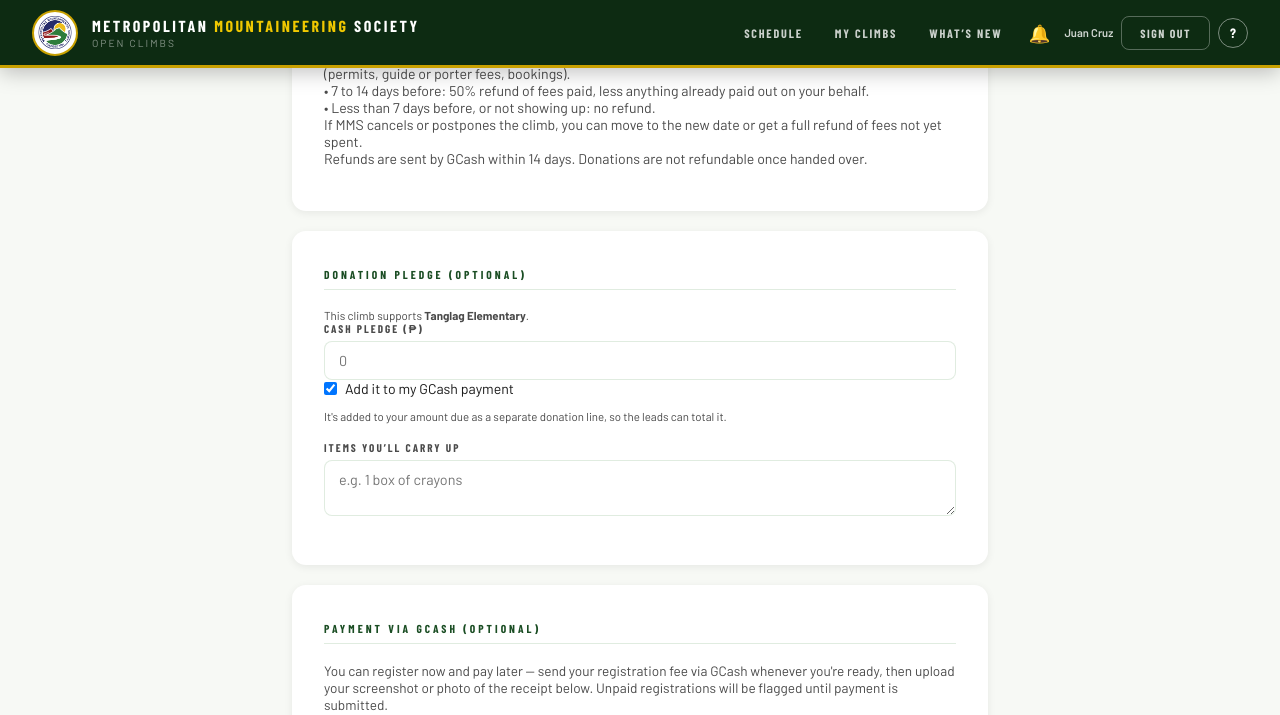
Test case: Register page › when the climb has a donation drive › adds a with-fees pledge as its own line in the total
(page scrolled)
Expected: the text "Donation Pledge (Optional)" is shown, [324, 267, 956, 290]
Type "250" into the number field with placeholder "0".
click(640, 360); type("250")  # box [324, 341, 956, 380]
(page scrolled)
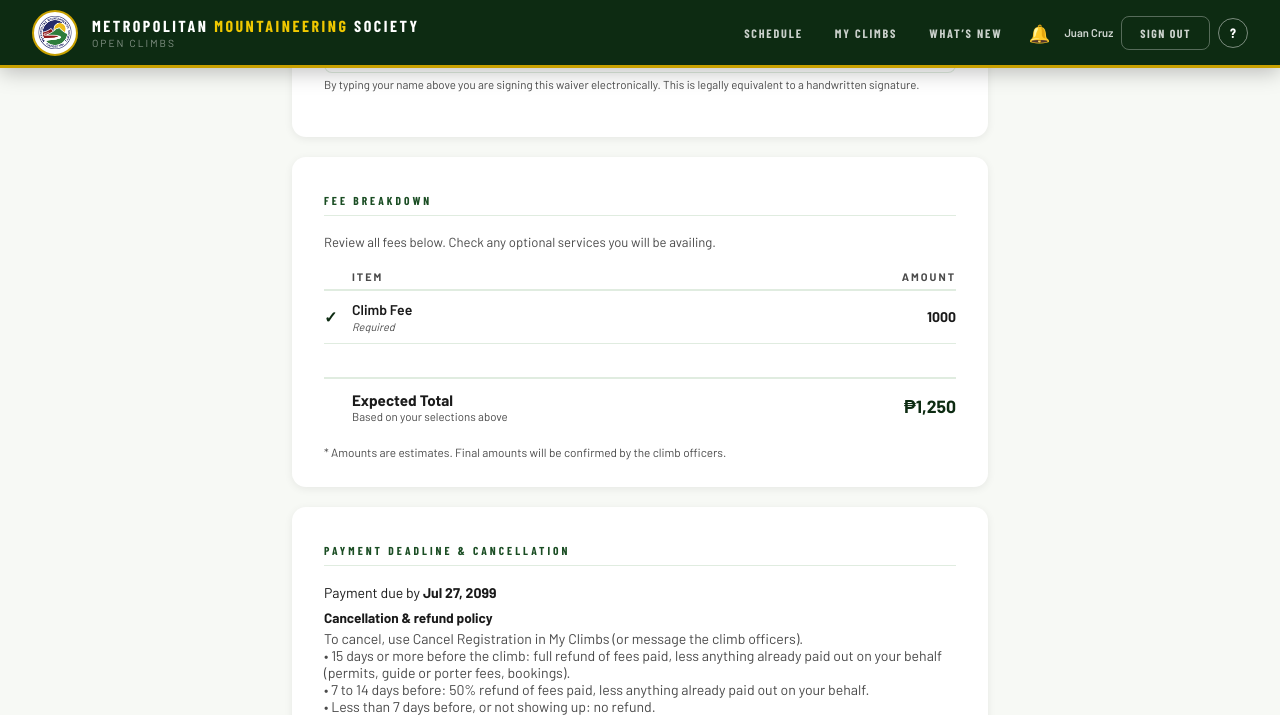
Expected: the text "Donation — Tanglag Elementary" is shown, [352, 343, 819, 378]
